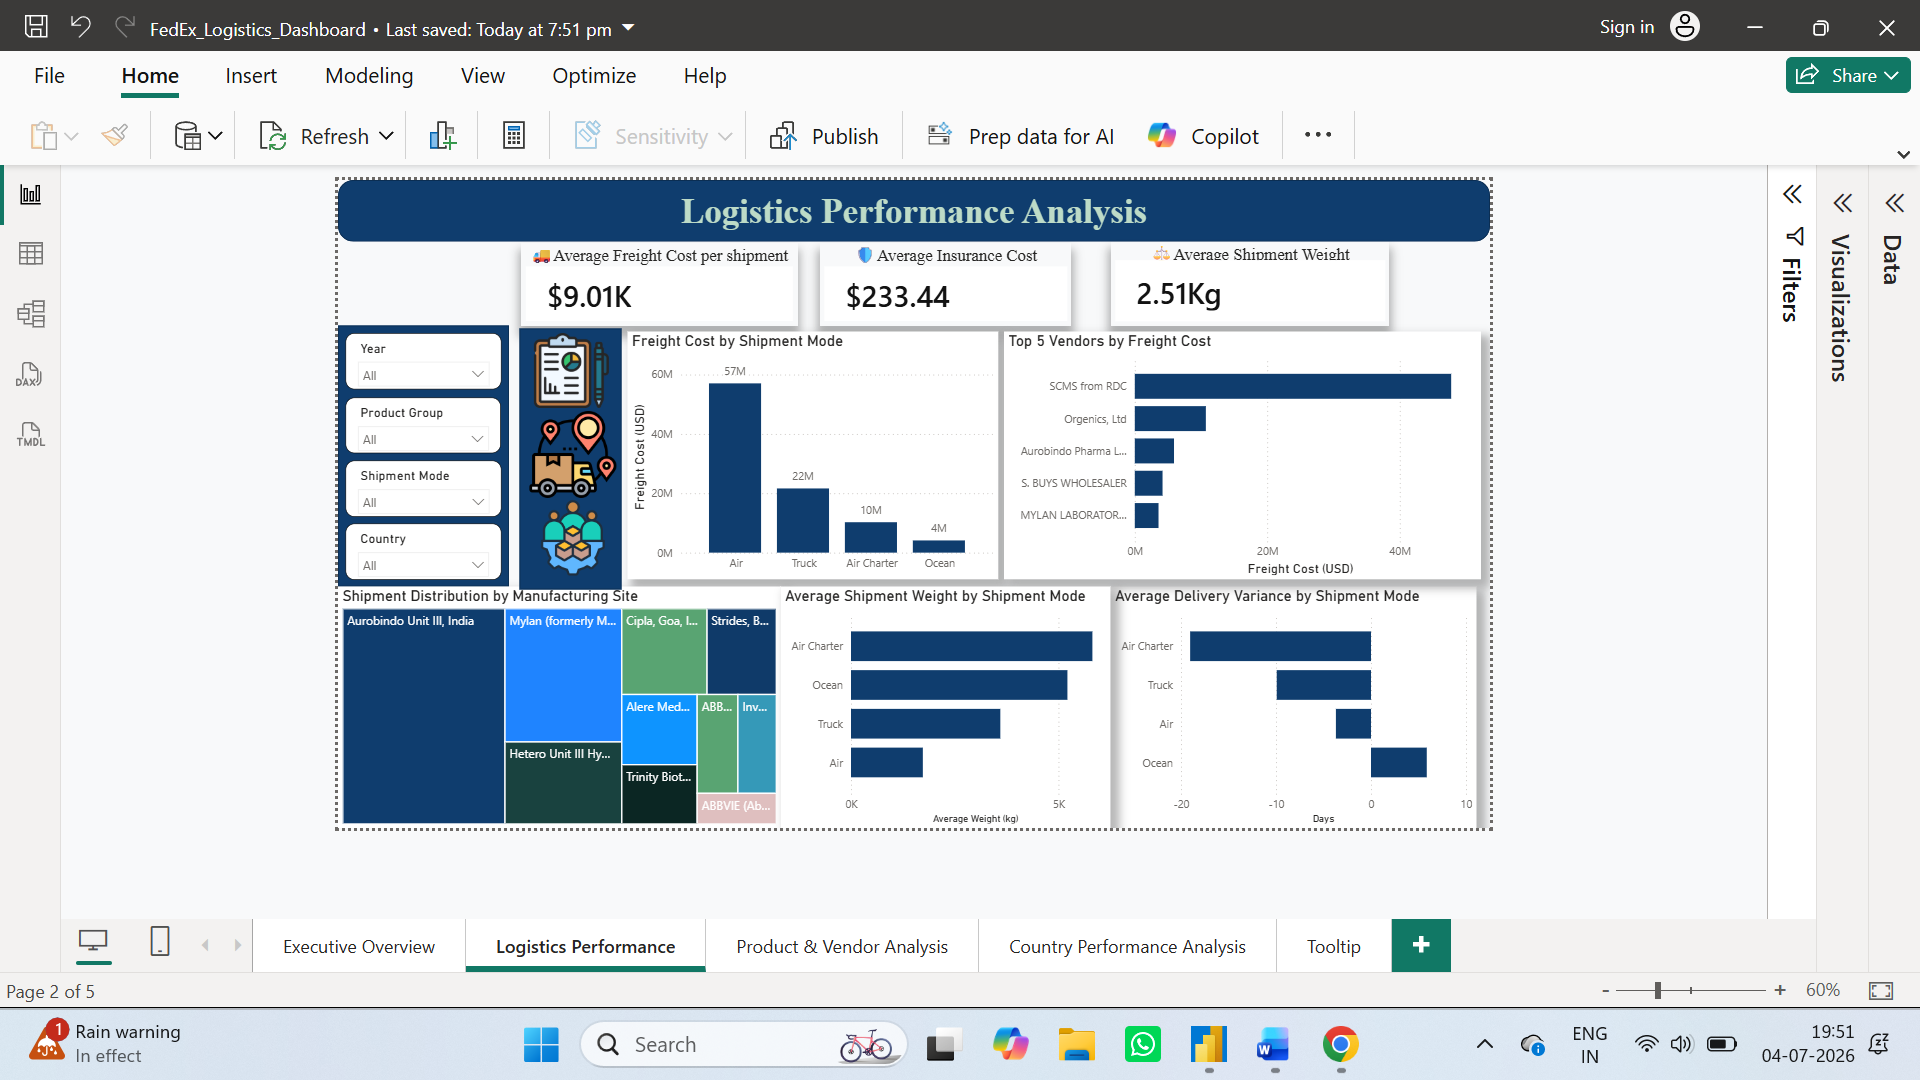

Layout of this report page (visuals, bound fields, positions):
{"tool":"powerbi","page":{"name":"Logistics Performance","canvas":[1280,720],"ordinal":1},"visuals":[{"type":"shape","box":[0,0,1280,68.5],"z":0},{"type":"shape","box":[0,162,190,290],"z":0,"group":"g1"},{"type":"shape","box":[201.7,165,113.3,290],"z":0,"group":"g2"},{"type":"cardVisual","title":"🚚Average Freight Cost per shipment","fields":{"Data":["Avg(SCMS_Cleaned.Freight Cost (USD))"]},"box":[204,70,307,92],"z":1000},{"type":"cardVisual","title":"🛡️Average Insurance Cost","fields":{"Data":["Avg(SCMS_Cleaned.Line Item Insurance (USD))"]},"box":[535,70,280,92],"z":2000},{"type":"cardVisual","title":"⚖️Average Shipment Weight","fields":{"Data":["Avg(SCMS_Cleaned.Weight (Kilograms))"]},"box":[858,68,310,94],"z":3000},{"type":"group","id":"g1","title":"Group 1","box":[0,162,190,290],"z":4000},{"type":"clusteredColumnChart","title":"Freight Cost by Shipment Mode","fields":{"Category":["SCMS_Cleaned.Shipment Mode"],"Y":["Sum(SCMS_Cleaned.Freight Cost (USD))"]},"box":[321.5,167.7,412.3,275.4],"z":5000},{"type":"barChart","title":"Average Delivery Variance by Shipment Mode","fields":{"Category":["SCMS_Cleaned.Shipment Mode"],"Y":["Avg(SCMS_Cleaned.Delay)"]},"box":[858.3,451.7,406.7,268.3],"z":6000},{"type":"barChart","title":"Top 5 Vendors by Freight Cost","fields":{"Category":["SCMS_Cleaned.Vendor"],"Y":["Sum(SCMS_Cleaned.Freight Cost (USD))"]},"box":[740.8,167.7,530,275.4],"z":7000},{"type":"slicer","fields":{"Values":["SCMS_Cleaned.Country"]},"box":[8,382,173.2,62.8],"z":8000,"group":"g1"},{"type":"treemap","title":"Shipment Distribution by Manufacturing Site","fields":{"Group":["SCMS_Cleaned.Manufacturing Site"],"Values":["CountNonNull(SCMS_Cleaned.ID)"]},"box":[0,451.7,491.7,268.3],"z":8000},{"type":"slicer","fields":{"Values":["Calendar.Year"]},"box":[8.3,170.3,173.3,62.5],"z":9000,"group":"g1"},{"type":"image","box":[206.7,256.7,108.3,96.7],"z":9000,"group":"g2"},{"type":"barChart","title":"Average Shipment Weight by Shipment Mode","fields":{"Y":["Avg(SCMS_Cleaned.Weight (Kilograms))"],"Category":["SCMS_Cleaned.Shipment Mode"]},"box":[491.7,451.7,366.7,268.3],"z":9000},{"type":"group","id":"g2","title":"Group 3","box":[201.7,165,113.3,290],"z":10000},{"type":"image","box":[211.7,170,95,83.3],"z":10000,"group":"g2"},{"type":"slicer","fields":{"Values":["SCMS_Cleaned.Shipment Mode"]},"box":[8,312.4,173.6,62.4],"z":11000,"group":"g1"},{"type":"image","box":[206.7,350,108.3,95],"z":11000,"group":"g2"},{"type":"slicer","fields":{"Values":["SCMS_Cleaned.Product Group"]},"box":[8,242.8,172.8,62],"z":12000,"group":"g1"}]}

Visuals, with their boxes on the page's 1280x720 design canvas (x1, y1, x2, y2). These are canvas units, not pixel positions in the 1920x1080 screenshot, which may show the page scaled, cropped or inside an application window:
shape: Rect(0, 0, 1280, 68)
shape: Rect(0, 162, 190, 452)
shape: Rect(202, 165, 315, 455)
"🚚Average Freight Cost per shipment" cardVisual: Rect(204, 70, 511, 162)
"🛡️Average Insurance Cost" cardVisual: Rect(535, 70, 815, 162)
"⚖️Average Shipment Weight" cardVisual: Rect(858, 68, 1168, 162)
"Group 1" group: Rect(0, 162, 190, 452)
"Freight Cost by Shipment Mode" clusteredColumnChart: Rect(322, 168, 734, 443)
"Average Delivery Variance by Shipment Mode" barChart: Rect(858, 452, 1265, 720)
"Top 5 Vendors by Freight Cost" barChart: Rect(741, 168, 1271, 443)
slicer - SCMS_Cleaned.Country: Rect(8, 382, 181, 445)
"Shipment Distribution by Manufacturing Site" treemap: Rect(0, 452, 492, 720)
slicer - Calendar.Year: Rect(8, 170, 182, 233)
image: Rect(207, 257, 315, 353)
"Average Shipment Weight by Shipment Mode" barChart: Rect(492, 452, 858, 720)
"Group 3" group: Rect(202, 165, 315, 455)
image: Rect(212, 170, 307, 253)
slicer - SCMS_Cleaned.Shipment Mode: Rect(8, 312, 182, 375)
image: Rect(207, 350, 315, 445)
slicer - SCMS_Cleaned.Product Group: Rect(8, 243, 181, 305)
